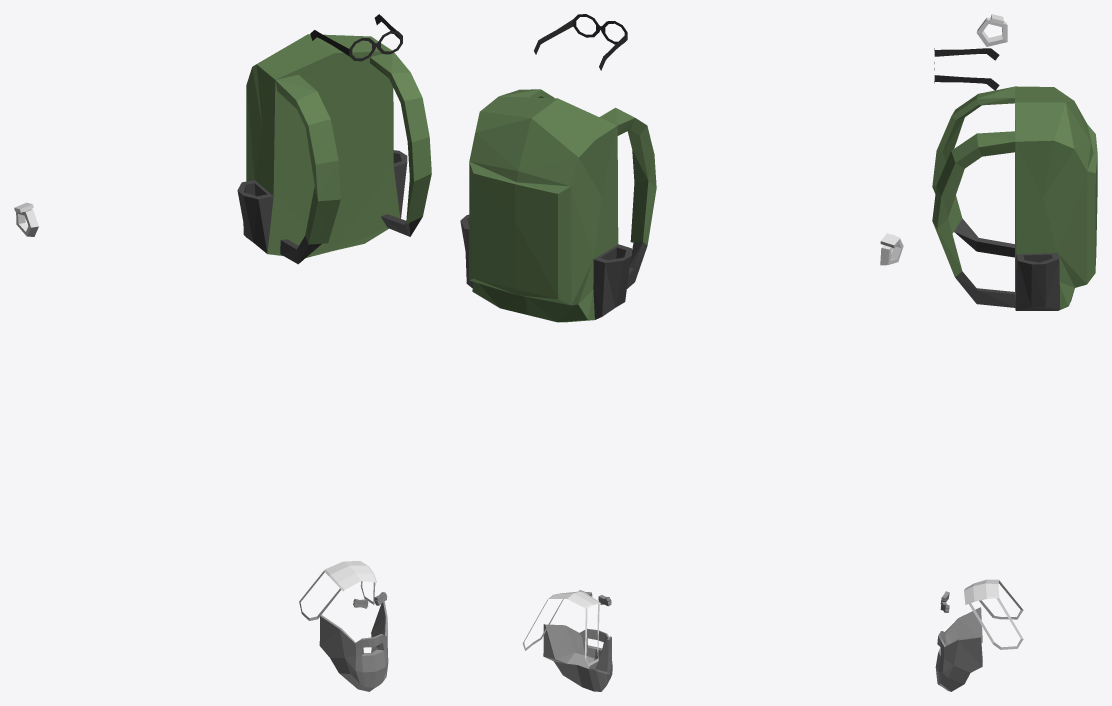
File: Tailor Props.fbx
The picture shows the model from 3 angles, left to right: view 1: azimuth 30°, elevation 25°; view 2: azimuth 150°, elevation 25°; view 3: azimuth 270°, elevation 25°; orthographic projection. The views are drawn at different scales.
Visible parts, largest first — view 1: Backpack, Beard 6, Mask, Glasses 1; view 2: Backpack, Beard 6, Beard 1, Mask, Glasses 1, Beard 2; view 3: Backpack, Beard 6, Mask, Glasses 1, Watch 1, Beard 1.
Part boxes in pixels (x1,y1,x2,y2): Backpack: (237,34,431,264); Beard 6: (319,616,388,690); Mask: (299,561,376,620); Glasses 1: (310,14,402,61); Backpack: (460,89,656,322); Beard 6: (543,625,612,684); Beard 1: (543,624,611,671); Mask: (522,591,600,666); Glasses 1: (534,14,627,70); Beard 2: (548,657,611,691); Backpack: (932,86,1097,310); Beard 6: (935,618,982,684); Mask: (964,579,1023,649); Glasses 1: (934,48,999,90); Watch 1: (976,14,1007,46); Beard 1: (938,607,982,656).
Size of the model in its own units: 115 by 179 by 42.13.
